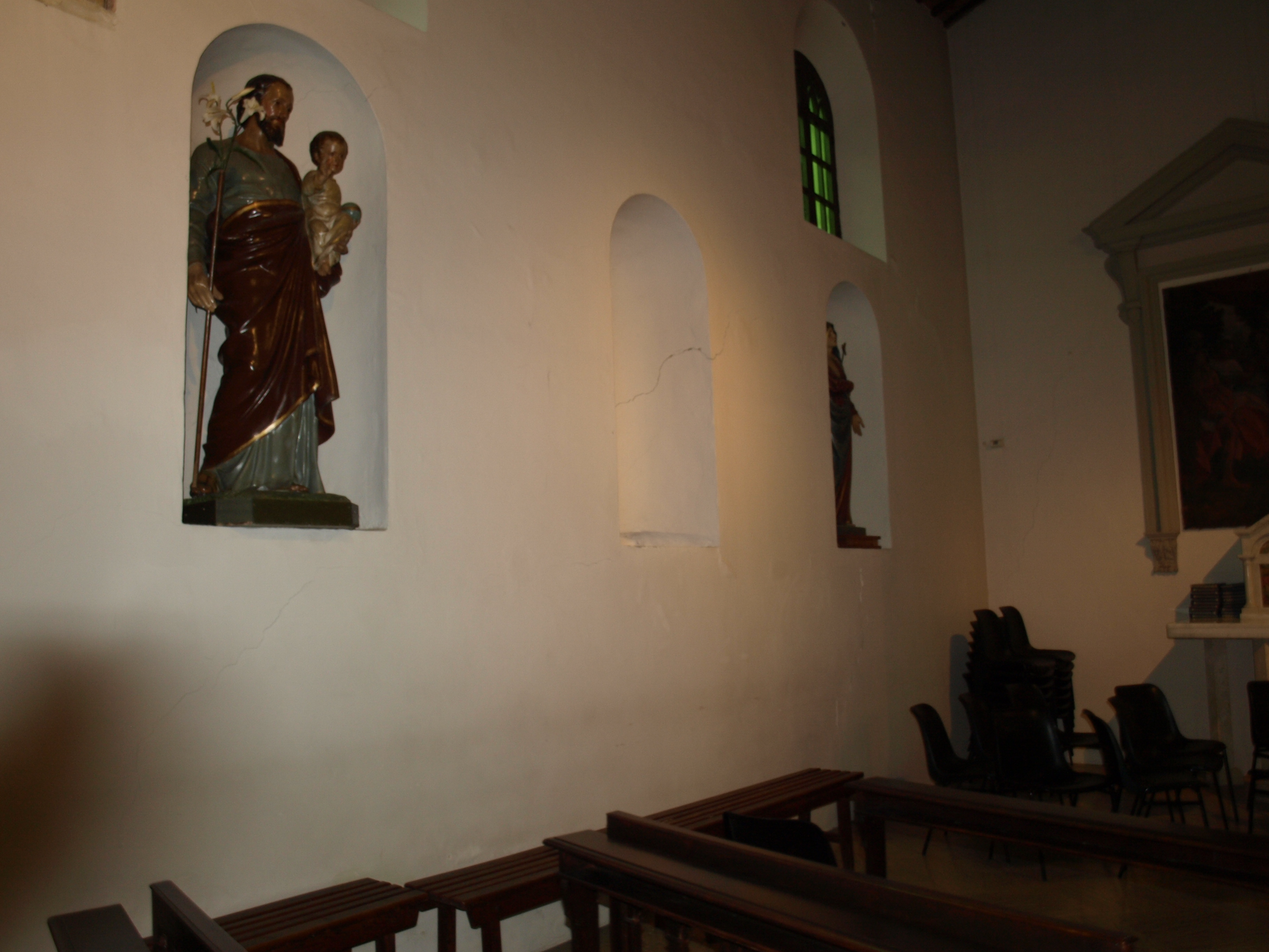Crack: (354, 191, 771, 527)
